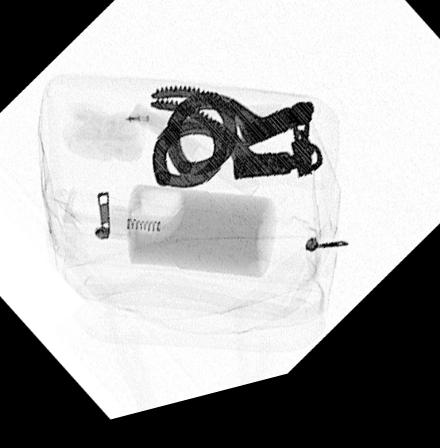HandCuffs: (148, 95, 325, 199)
